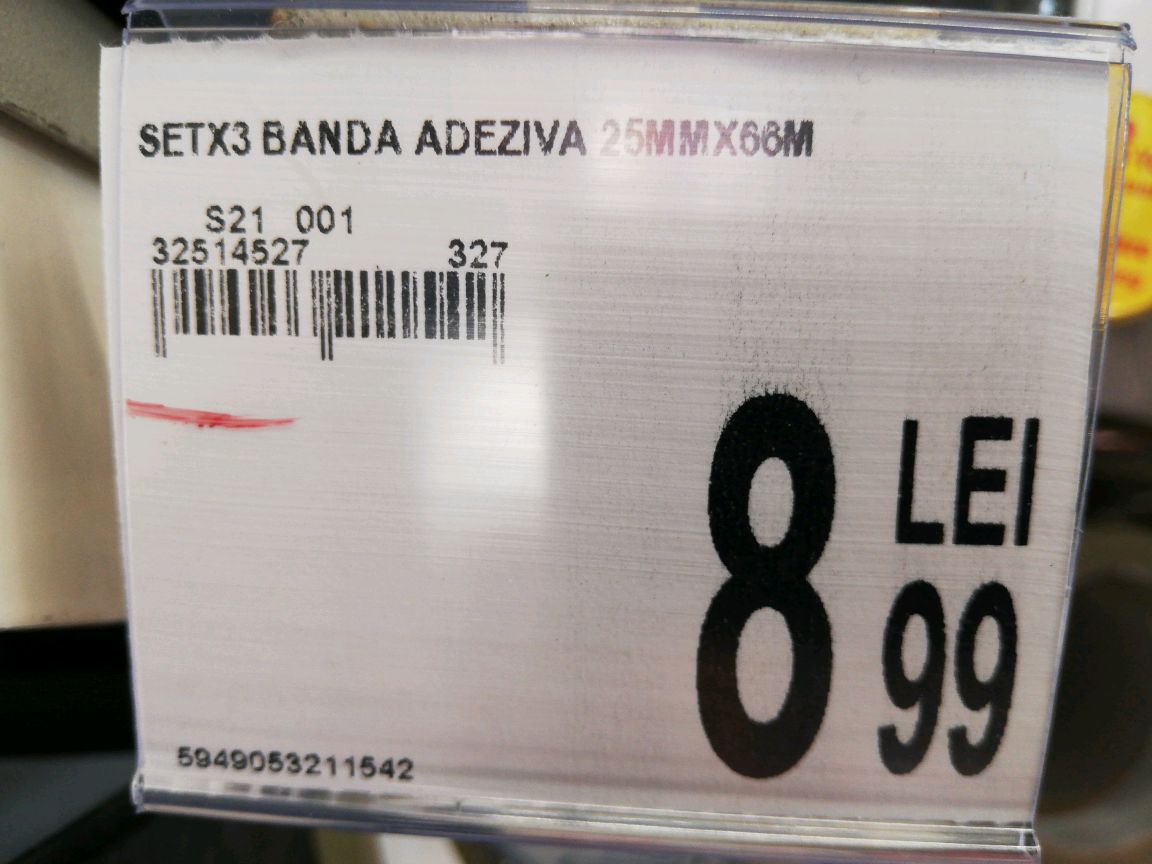price_bani: (866, 568, 1032, 794)
price_lei: (672, 375, 854, 793)
price_tag: (80, 40, 1132, 860)
product_id: (166, 742, 424, 794)
product_name: (131, 113, 832, 171)
